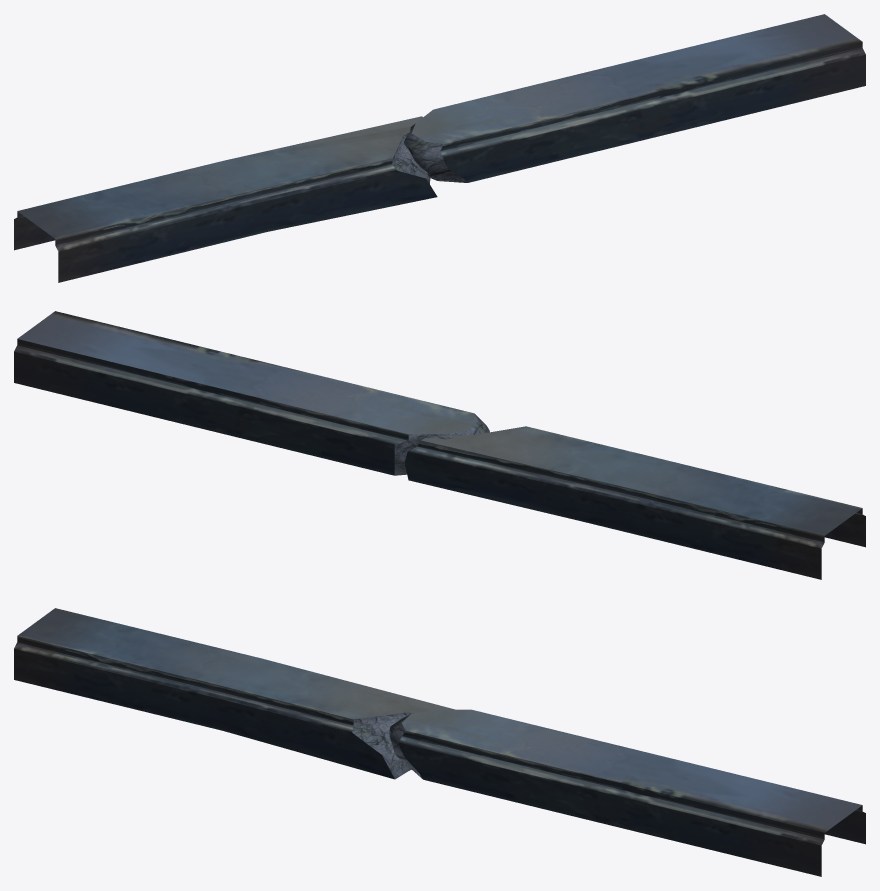
Rendered from HuBian_NightRailing05_FBX.FBX.
3 views of the same model, one above another, from view 1: azimuth 30°, elevation 25°; view 2: azimuth 150°, elevation 25°; view 3: azimuth 330°, elevation 25° (orthographic).
Visible parts, largest first — view 1: HuBian_NightRailing05_FBX; view 2: HuBian_NightRailing05_FBX; view 3: HuBian_NightRailing05_FBX.
Part boxes in pixels (x1=…): HuBian_NightRailing05_FBX: x1=14, y1=14, x2=865, y2=282; HuBian_NightRailing05_FBX: x1=14, y1=311, x2=865, y2=579; HuBian_NightRailing05_FBX: x1=14, y1=608, x2=865, y2=876.
Bounding box in the file's own units: 1.73 × 0.1006 × 0.1685.
